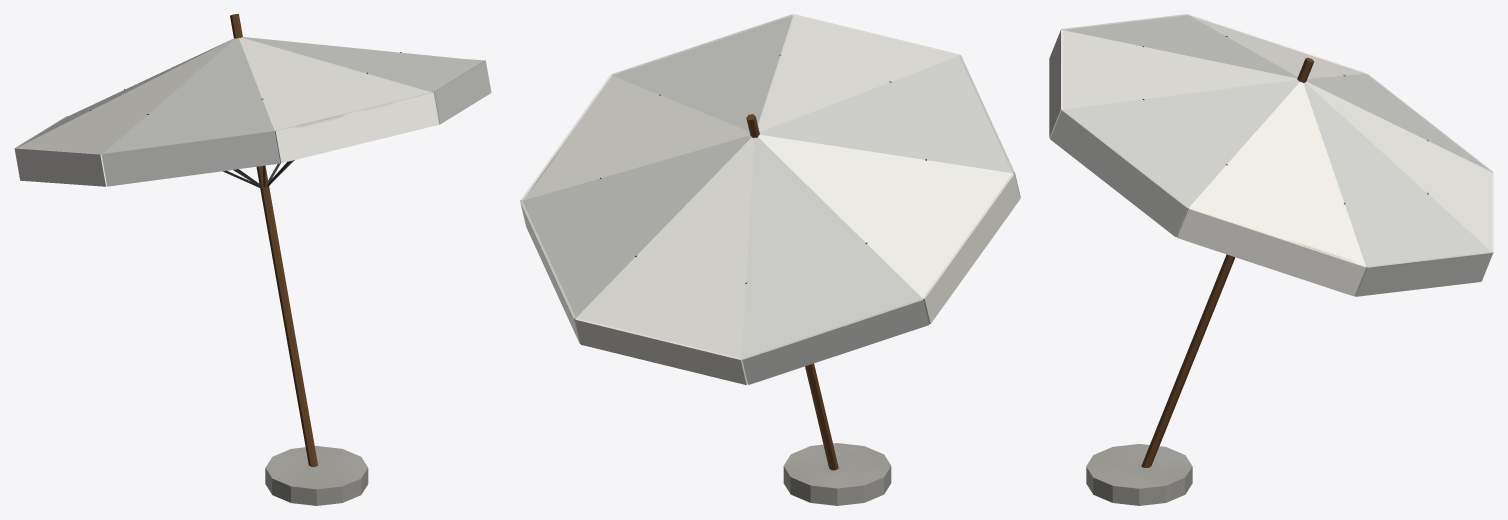
Rendered from slunecnik_6d676d72.glb.
The picture shows the model from 3 angles, left to right: view 1: azimuth 30°, elevation 25°; view 2: azimuth 150°, elevation 25°; view 3: azimuth 270°, elevation 25°; orthographic projection. The views are drawn at different scales.
Parts seen in each view (by area): view 1: dum; view 2: dum; view 3: dum.
Part boxes in pixels (left/top/right/bottom): dum: left=14, top=14, right=491, bottom=505; dum: left=520, top=14, right=1020, bottom=505; dum: left=1049, top=14, right=1493, bottom=505.
Size of the model in its own units: 2.42 by 2.47 by 2.33.
Materials: 1 (1 with a texture image).
